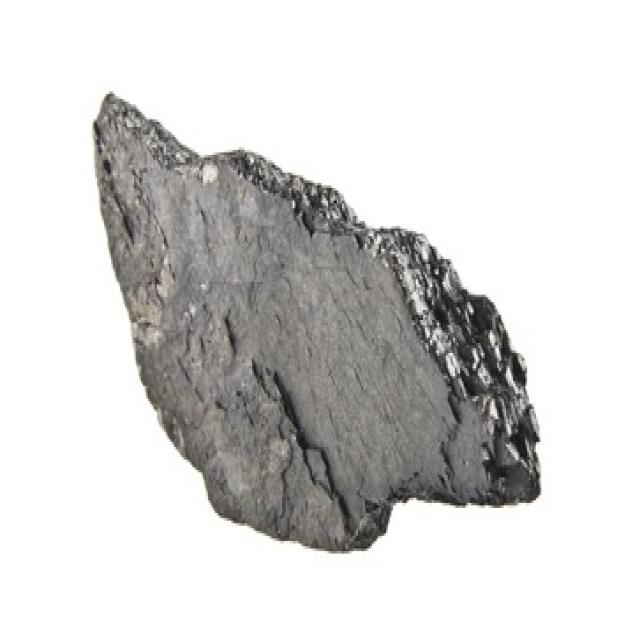Sedimentary: (85, 81, 564, 554)
